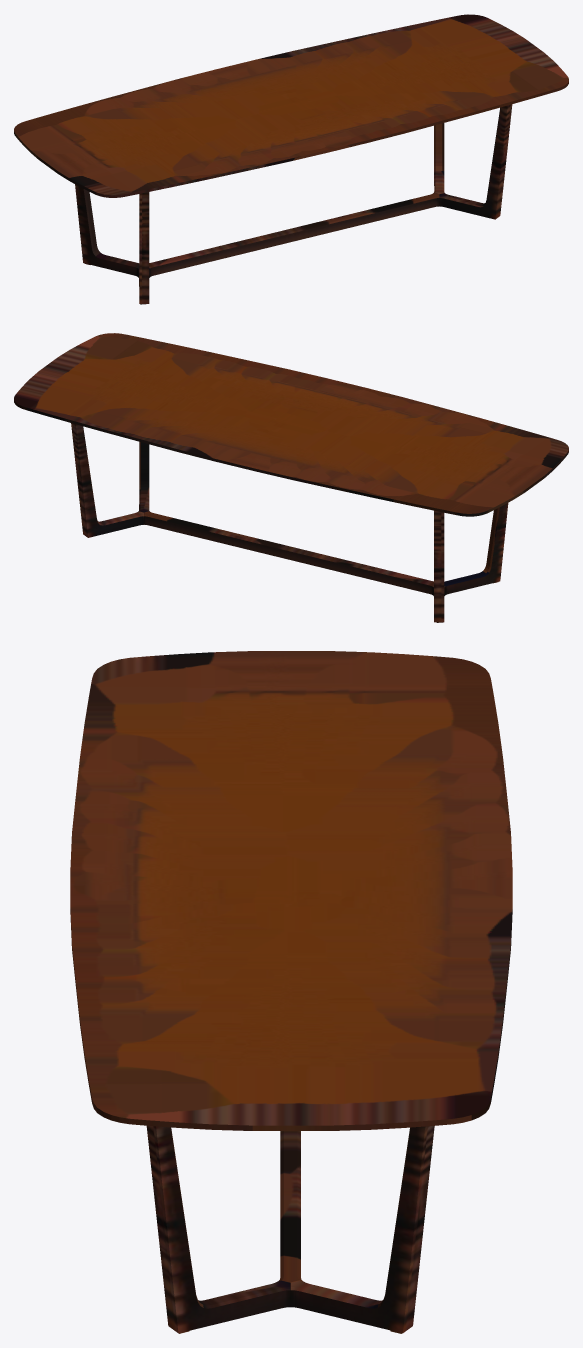
File: edited_mesh.glb
The picture shows the model from 3 angles, top to bottom: view 1: azimuth 30°, elevation 25°; view 2: azimuth 150°, elevation 25°; view 3: azimuth 270°, elevation 25°; orthographic projection. The views are drawn at different scales.
Parts seen in each view (by area): view 1: normalized_model.obj; view 2: normalized_model.obj; view 3: normalized_model.obj.
Part boxes in pixels (x1,y1,x2,y2): normalized_model.obj: (14,14,568,304); normalized_model.obj: (14,333,568,622); normalized_model.obj: (70,651,512,1333).
Bounding box in the file's own units: 2 × 0.5321 × 0.7873.
Materials: 1 (1 with a texture image).
